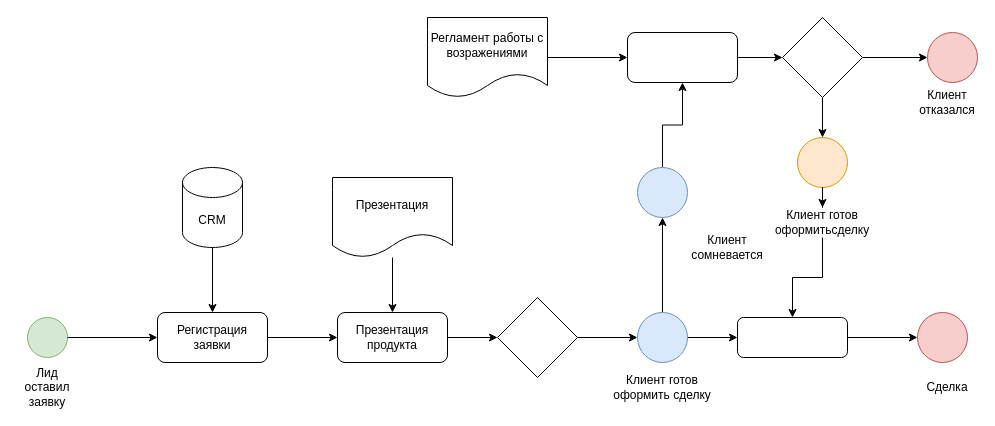
Some shapes in this 995 by 426 pixel diagram are drawn without their labels. Each missing label, with the centre of its shape:
"Оформить сделку" belongs at (792,337).
"Работа с возражениями" belongs at (682,57).
